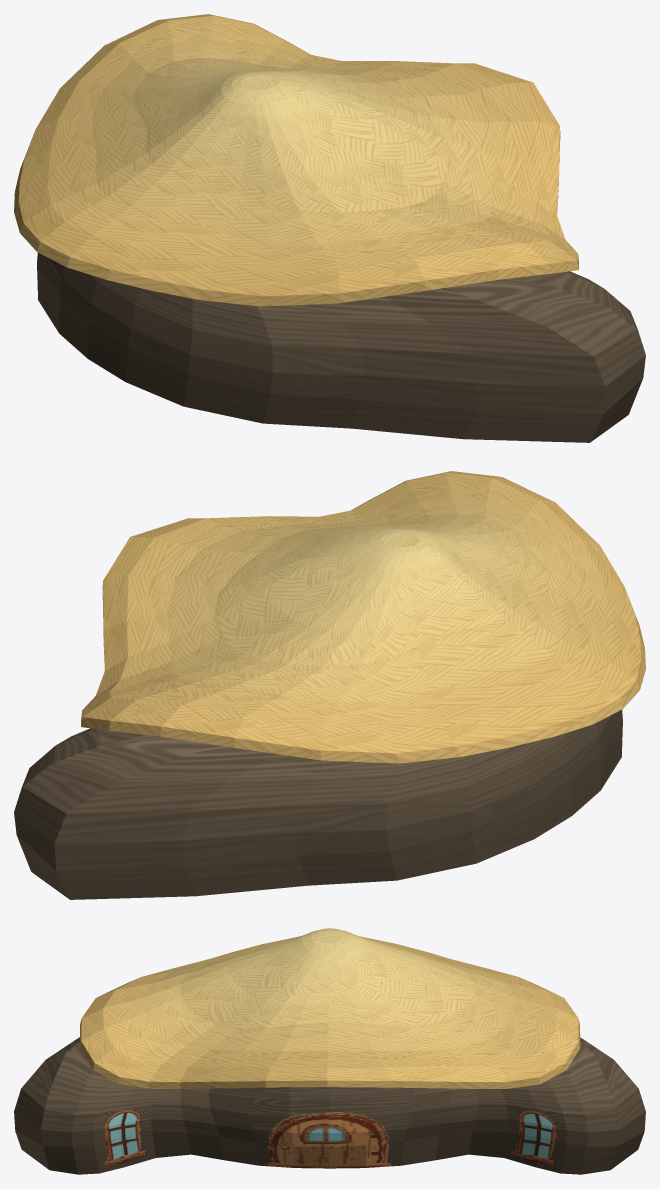
The model's file is ComunalHouse.fbx.
The picture shows the model from 3 angles, top to bottom: view 1: azimuth 30°, elevation 25°; view 2: azimuth 150°, elevation 25°; view 3: azimuth 270°, elevation 25°; orthographic projection. The views are drawn at different scales.
Parts seen in each view (by area): view 1: CommunalHouse; view 2: CommunalHouse; view 3: CommunalHouse.
Boxes of the visible parts, bbox=[...] form: CommunalHouse: bbox=[14, 14, 645, 442]; CommunalHouse: bbox=[14, 471, 645, 899]; CommunalHouse: bbox=[14, 928, 645, 1174].
Size of the model in its own units: 1157 by 523 by 1753.
